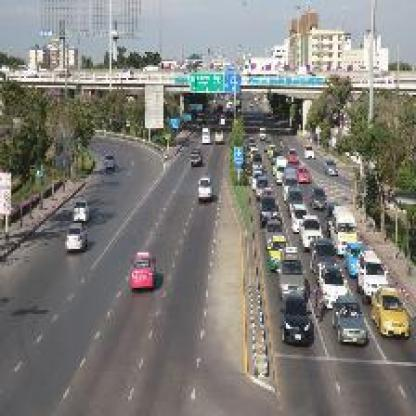other: (116, 240, 166, 292), (383, 289, 408, 345)
